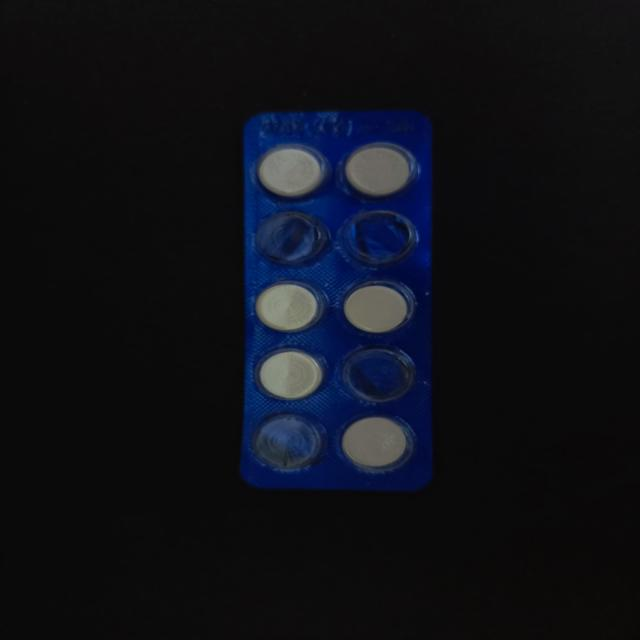defect: (338, 207, 422, 268), (248, 410, 330, 472), (336, 342, 418, 403), (252, 209, 330, 266)
